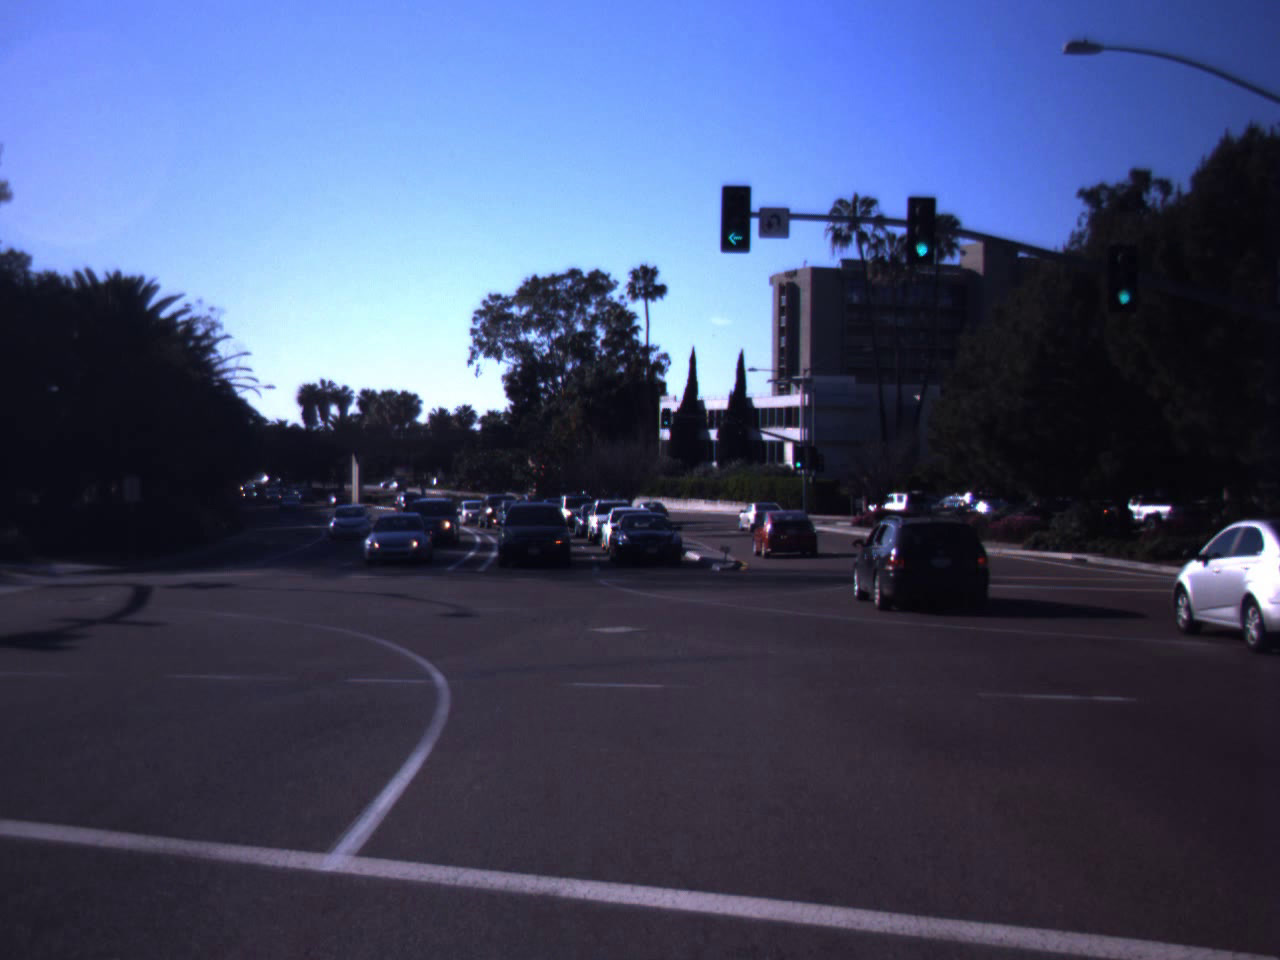go: (706, 173, 763, 253), (912, 219, 933, 259), (1114, 266, 1135, 306)
